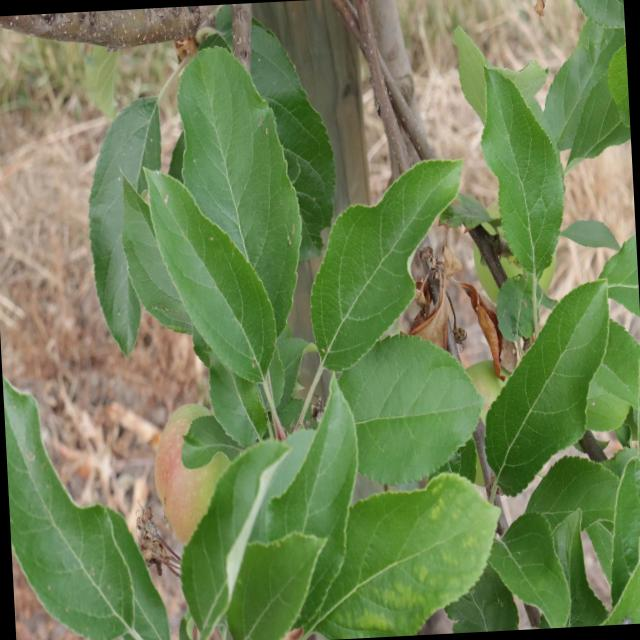-FireBlight-: (385, 248, 514, 368)
